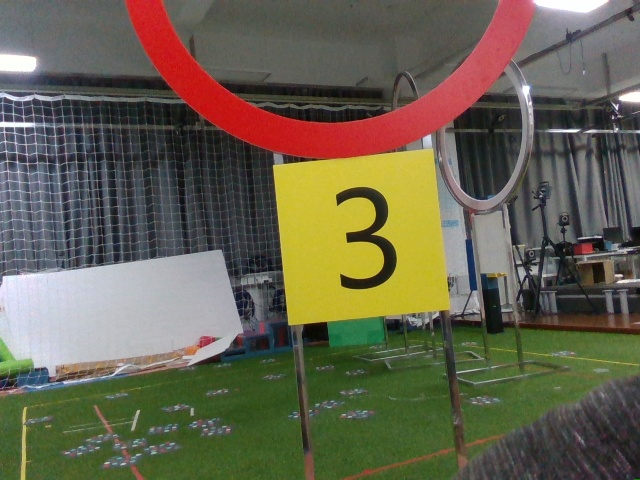target: (272, 154, 443, 310)
